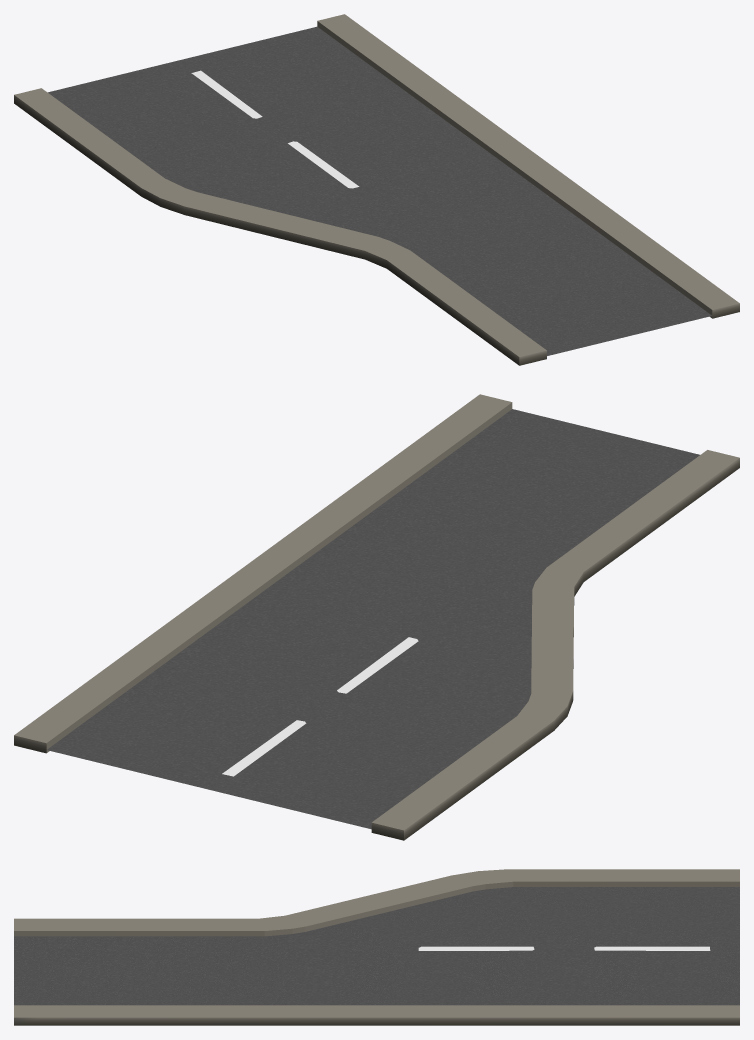
3 views of the same model, one above another, from view 1: azimuth 30°, elevation 25°; view 2: azimuth 150°, elevation 25°; view 3: azimuth 270°, elevation 25° (orthographic). The views are drawn at different scales.
Visible parts, largest first — view 1: Road_2C; view 2: Road_2C; view 3: Road_2C.
Boxes of the visible parts, x1,y1,x2,y2 form: Road_2C: [14, 14, 739, 365]; Road_2C: [14, 394, 739, 840]; Road_2C: [14, 869, 739, 1025].
Size of the model in its own units: 14949 by 374 by 30928.
